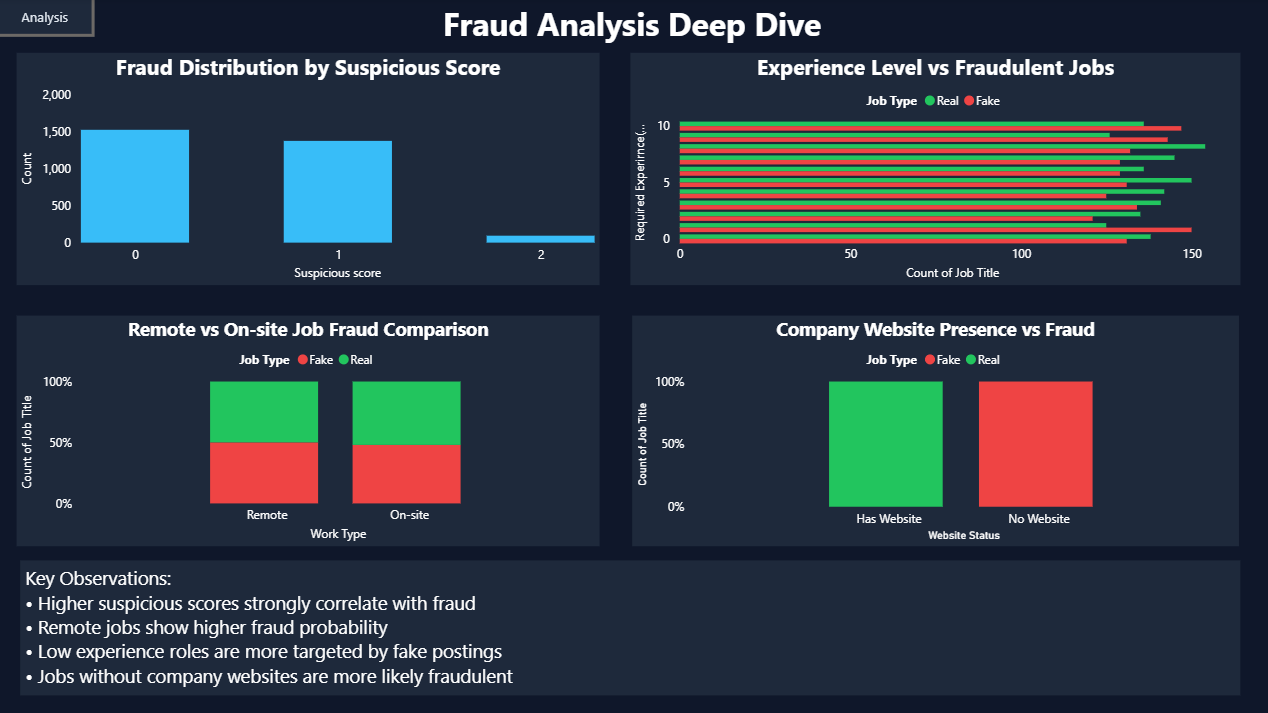

The page's visual inventory and layout, read from the dashboard file:
{"tool":"powerbi","page":{"name":"Fraud Analysis Deep Dive","canvas":[1280,720],"ordinal":1},"visuals":[{"type":"textbox","box":[0,0,1279.8,53.8],"z":0},{"type":"clusteredColumnChart","title":"Fraud Distribution by Suspicious Score","fields":{"Category":["jobs.Suspicious Score"],"Y":["CountNonNull(jobs.Job Title)"]},"box":[21.7,56,585.8,233.2],"z":1000},{"type":"hundredPercentStackedColumnChart","title":"Remote vs On-site Job Fraud Comparison","fields":{"Series":["jobs.is_fake_label"],"Y":["CountNonNull(jobs.Job Title)"],"Category":["jobs.Work Type"]},"box":[21.7,320,585.8,231.4],"z":1001},{"type":"clusteredBarChart","title":"Experience Level vs Fraudulent Jobs","fields":{"Category":["jobs.required_experience_years"],"Y":["CountNonNull(jobs.Job Title)"],"Series":["jobs.is_fake_label"]},"box":[638.2,56,612.9,233.2],"z":1002},{"type":"hundredPercentStackedColumnChart","title":"Company Website Presence vs Fraud","fields":{"Y":["CountNonNull(jobs.Job Title)"],"Series":["jobs.is_fake_label"],"Category":["jobs.Website Status"]},"box":[640,320,609.3,231.4],"z":1003},{"type":"textbox","box":[25.3,565.9,1225.8,135.6],"z":1004},{"type":"actionButton","box":[0,0,100,40],"z":1005}]}

Visuals, with their boxes on the page's 1280x720 design canvas (x1, y1, x2, y2). These are canvas units, not pixel positions in the 1268x713 screenshot, which may show the page scaled, cropped or inside an application window:
textbox: {"left": 0, "top": 0, "right": 1280, "bottom": 54}
"Fraud Distribution by Suspicious Score" clusteredColumnChart: {"left": 22, "top": 56, "right": 608, "bottom": 289}
"Remote vs On-site Job Fraud Comparison" hundredPercentStackedColumnChart: {"left": 22, "top": 320, "right": 608, "bottom": 551}
"Experience Level vs Fraudulent Jobs" clusteredBarChart: {"left": 638, "top": 56, "right": 1251, "bottom": 289}
"Company Website Presence vs Fraud" hundredPercentStackedColumnChart: {"left": 640, "top": 320, "right": 1249, "bottom": 551}
textbox: {"left": 25, "top": 566, "right": 1251, "bottom": 702}
actionButton: {"left": 0, "top": 0, "right": 100, "bottom": 40}
